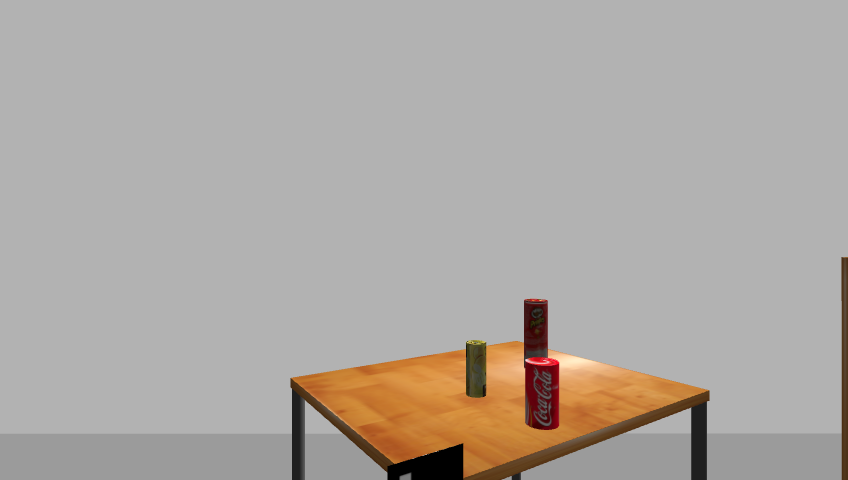aruco marker: (381, 443, 468, 480)
biscuits pack: (464, 339, 488, 399)
bookshelf: (837, 257, 848, 480)
coke can: (522, 357, 561, 430)
dinner table: (282, 344, 718, 480)
pringles can: (520, 297, 550, 368)
